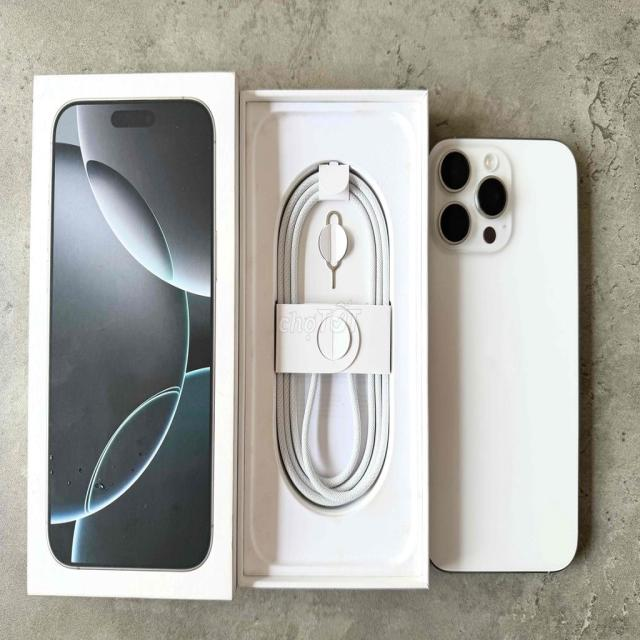gen_16: (428, 139, 578, 572)
